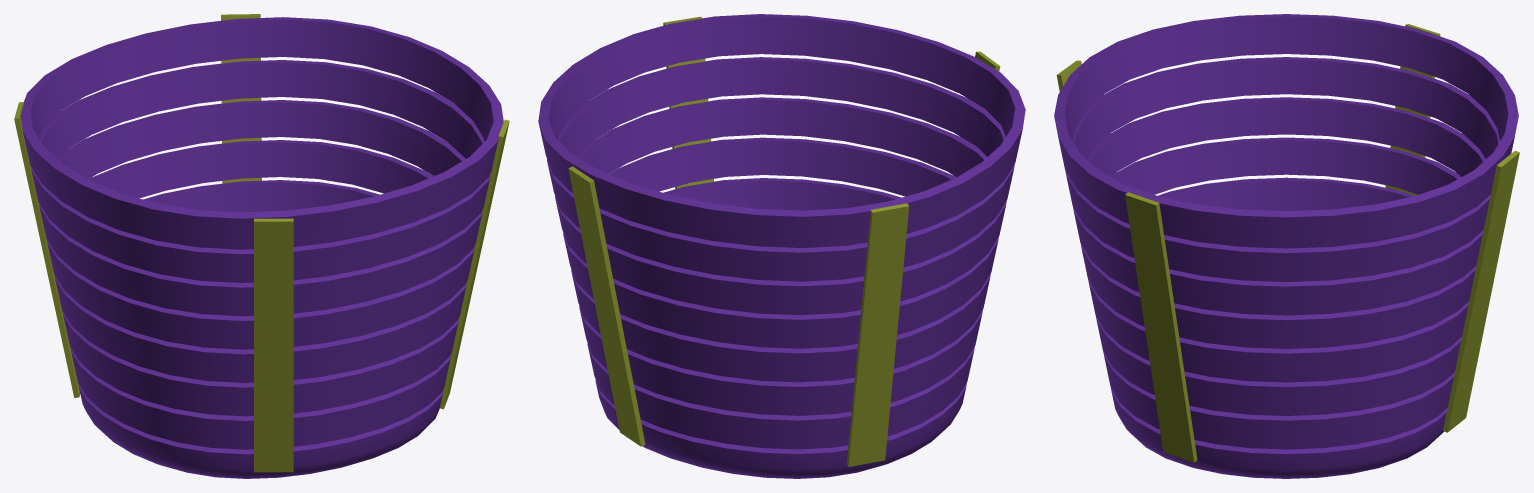
Rendered from Basket_Style_01.fbx.
3 renders of one model, left to right at view 1: azimuth 30°, elevation 25°; view 2: azimuth 150°, elevation 25°; view 3: azimuth 270°, elevation 25°, orthographic.
Parts seen in each view (by area): view 1: SetA_Basket_Style_01; view 2: SetA_Basket_Style_01; view 3: SetA_Basket_Style_01.
Boxes of the visible parts, bbox=[...] form: SetA_Basket_Style_01: bbox=[14, 14, 509, 478]; SetA_Basket_Style_01: bbox=[538, 14, 1025, 478]; SetA_Basket_Style_01: bbox=[1054, 14, 1519, 478].
Size of the model in its own units: 0.5756 by 0.3917 by 0.5571.
